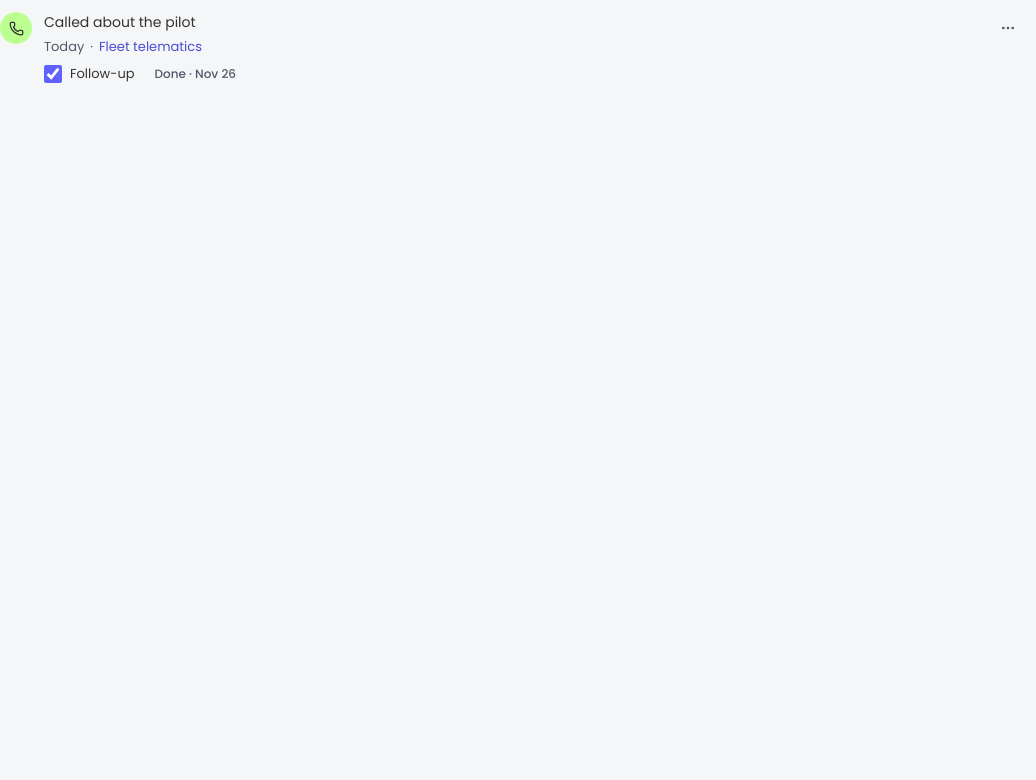
Scenario: a timeline › marks a done follow-up not done again
The image size is (1036, 780).
Click the checkbox named "Mark not done: Called about the pilot": (53, 74) [44,64,62,82]
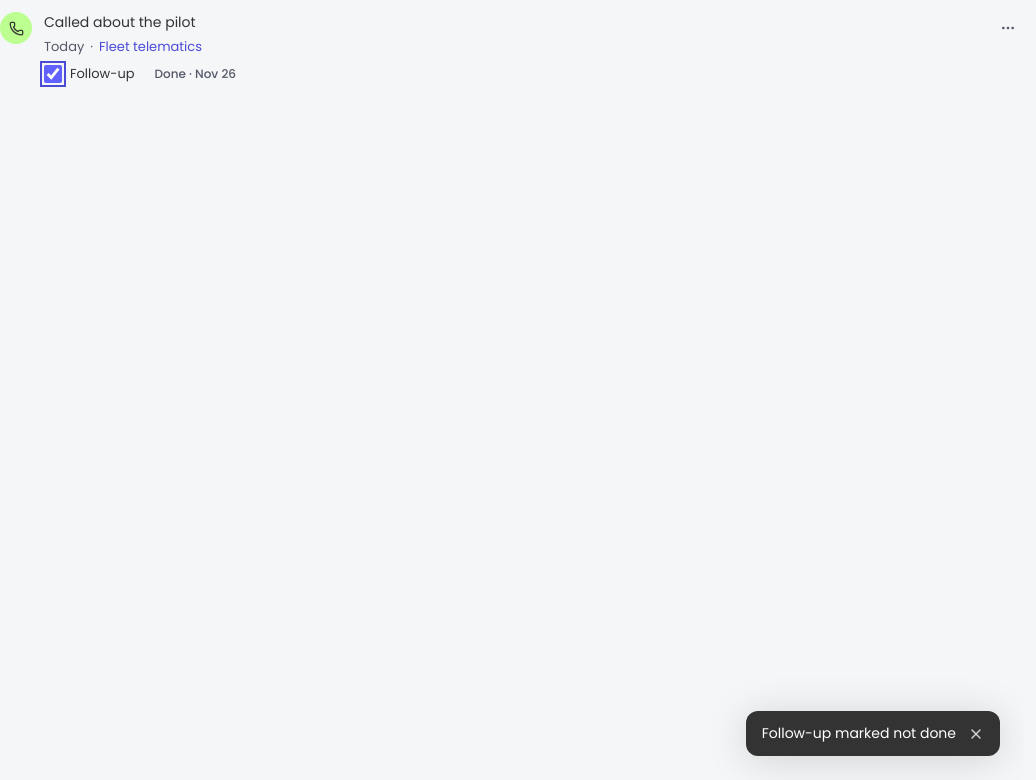
expect the text "Follow-up marked not done" is shown: met, box [762,723,956,744]
